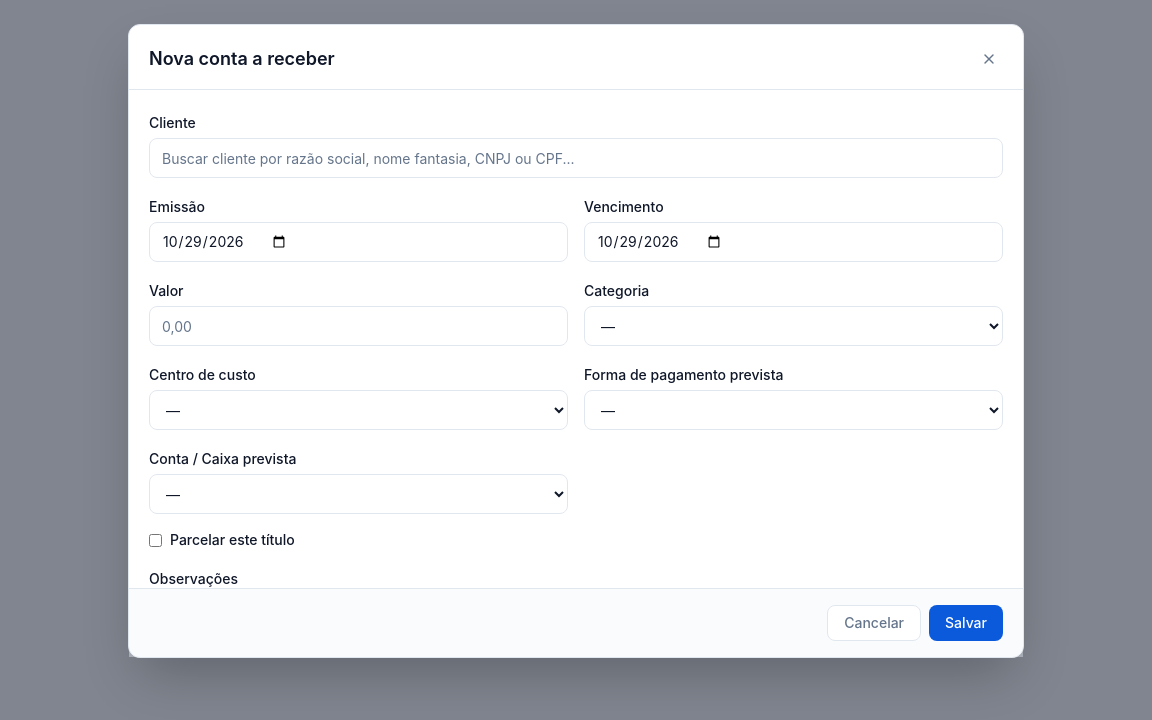
Test case: TituloFinanceiroNovoModal — conta a receber › exige cliente ao salvar
Click the button "Salvar" at (966, 623), box [929,605,1003,641]
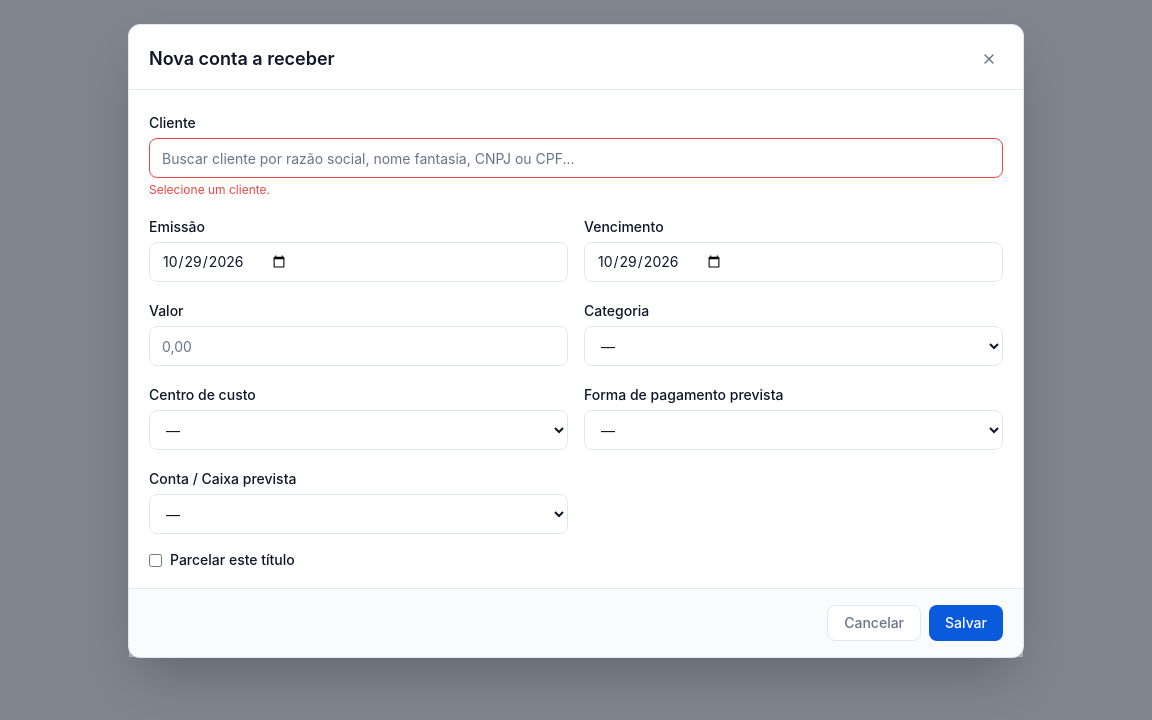
Expected: the text "Selecione um cliente." is shown, [149,182,270,197]
